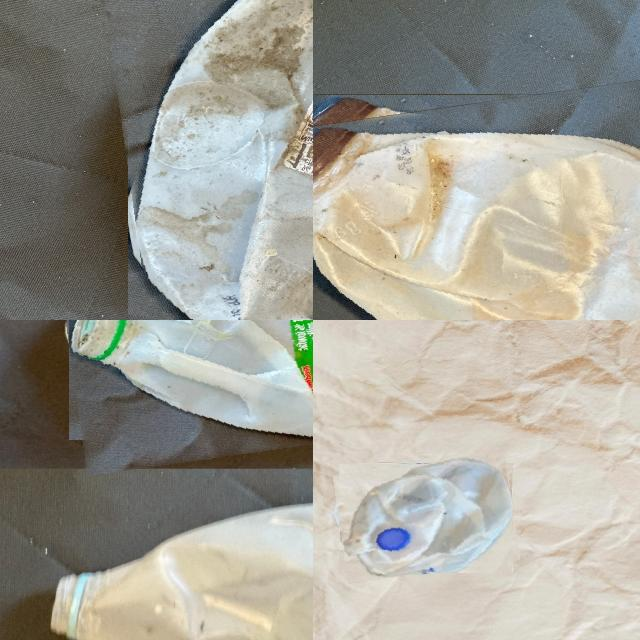milk-jug: (313, 77, 640, 320), (114, 0, 313, 320), (52, 506, 313, 640), (61, 320, 313, 458), (335, 457, 515, 579)
